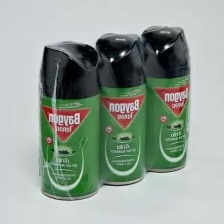aerosol_cans: (35, 37, 103, 202), (92, 29, 150, 189), (138, 21, 194, 175)
